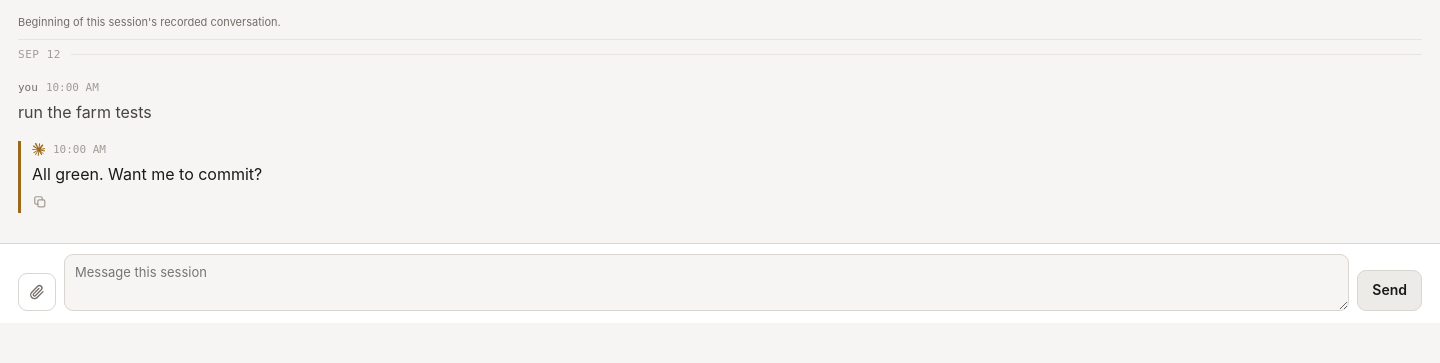
Scenario: ConversationView -- the message box › puts focus back after a refusal too, with the typed text still there to retry
In the text box labelled "Message this session": (707, 282) [64,254,1349,311], type "commit it"
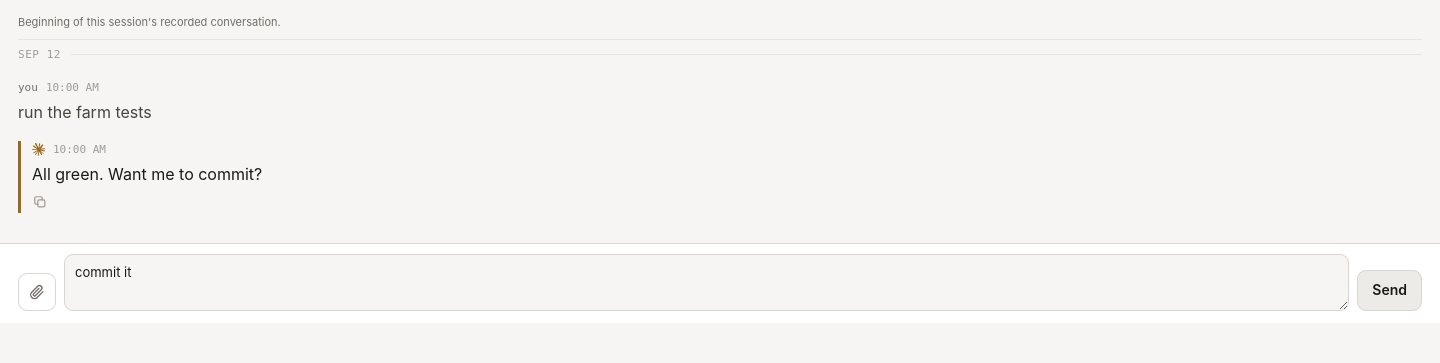
Press Enter in the text box named "Message this session", box [64,254,1349,311]
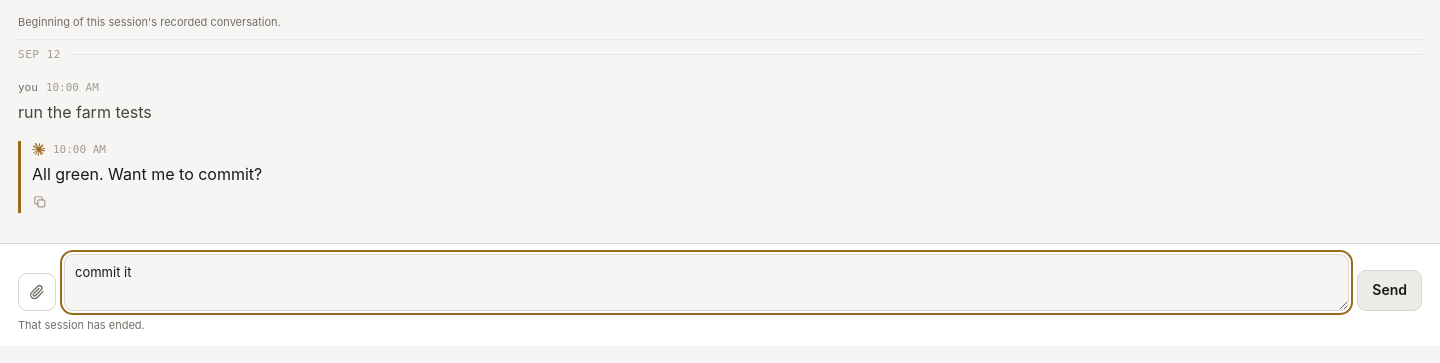
Expected: the text "That session has ended." is shown, [18,318,145,332]
